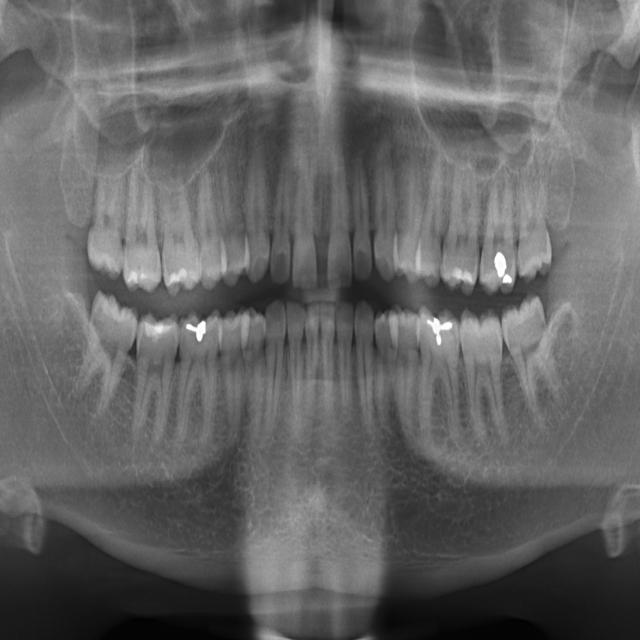AmalgamRestoration: (426, 312, 452, 348), (185, 316, 208, 351), (494, 250, 514, 290)
CompositeResinRestoration: (143, 312, 176, 348), (164, 257, 190, 298), (125, 264, 159, 294), (450, 260, 478, 292)
DentalCaries: (432, 245, 446, 282)
